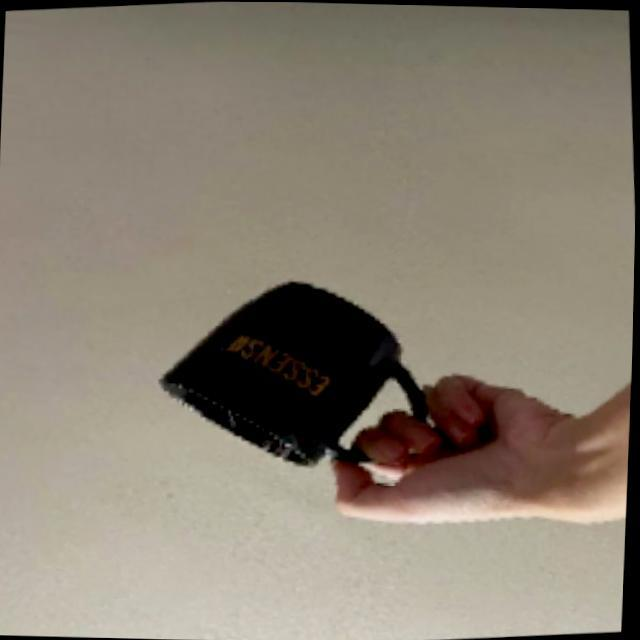cup: (362, 254, 438, 418)
